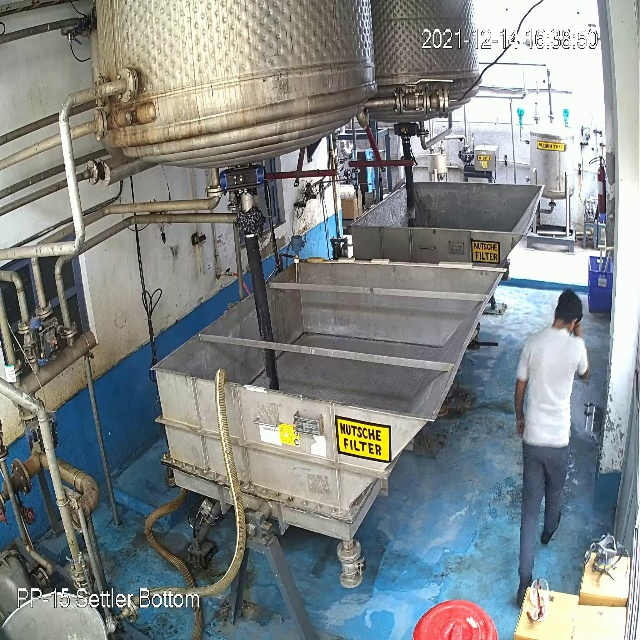Sin_guantes: (507, 367, 529, 438)
